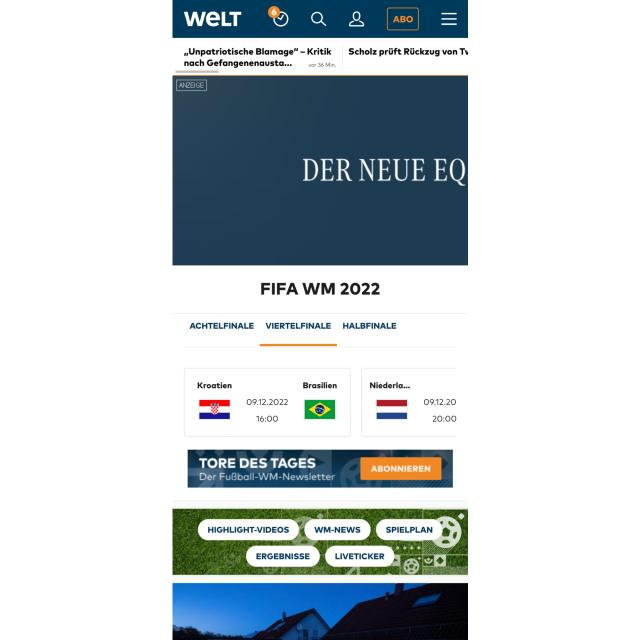logo: (182, 8, 244, 30)
navigation: (437, 10, 461, 28)
